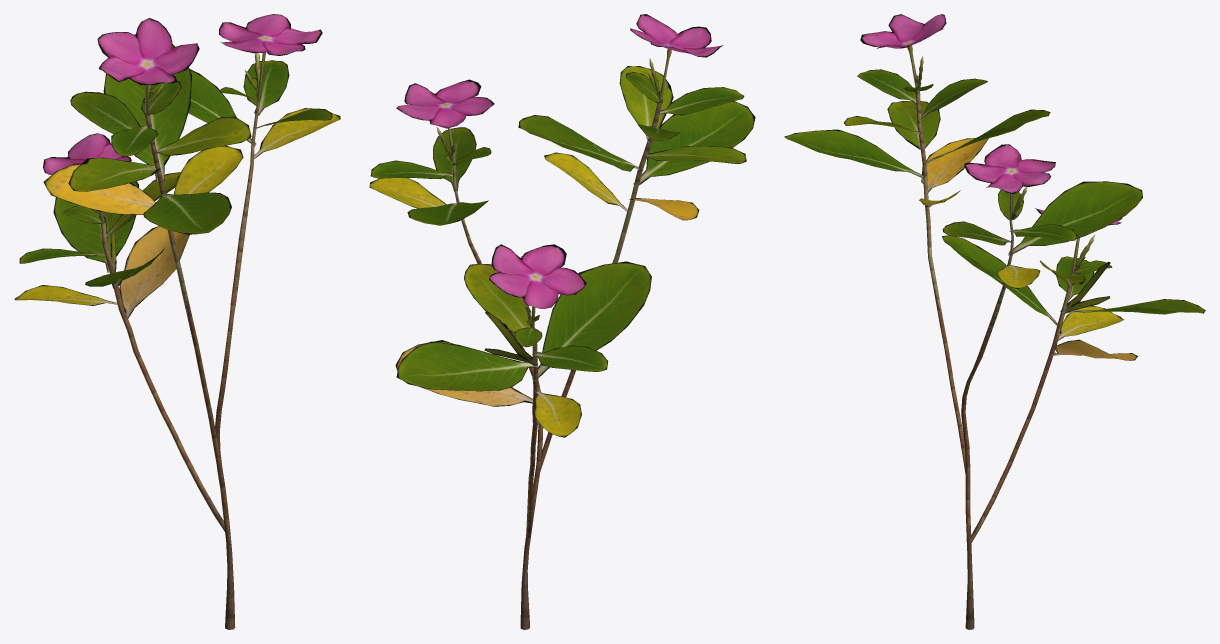
Rendered from periwinkle_plant_05.glb.
3 renders of one model, left to right at view 1: azimuth 30°, elevation 25°; view 2: azimuth 150°, elevation 25°; view 3: azimuth 270°, elevation 25°, orthographic. The views are drawn at different scales.
Parts seen in each view (by area): view 1: periwinkle_plant_05_LOD0; view 2: periwinkle_plant_05_LOD0; view 3: periwinkle_plant_05_LOD0.
Boxes of the visible parts, <box> form: periwinkle_plant_05_LOD0: <box>14,14,340,629</box>; periwinkle_plant_05_LOD0: <box>369,14,755,629</box>; periwinkle_plant_05_LOD0: <box>784,14,1205,629</box>.
Bounding box in the file's own units: 0.1111 × 0.2058 × 0.1409.
Materials: 1 (1 with a texture image).
